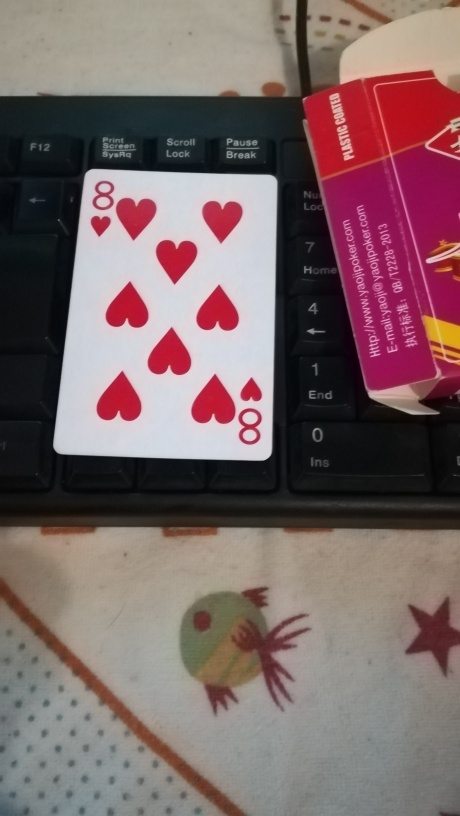hx 8: (50, 166, 272, 460)
